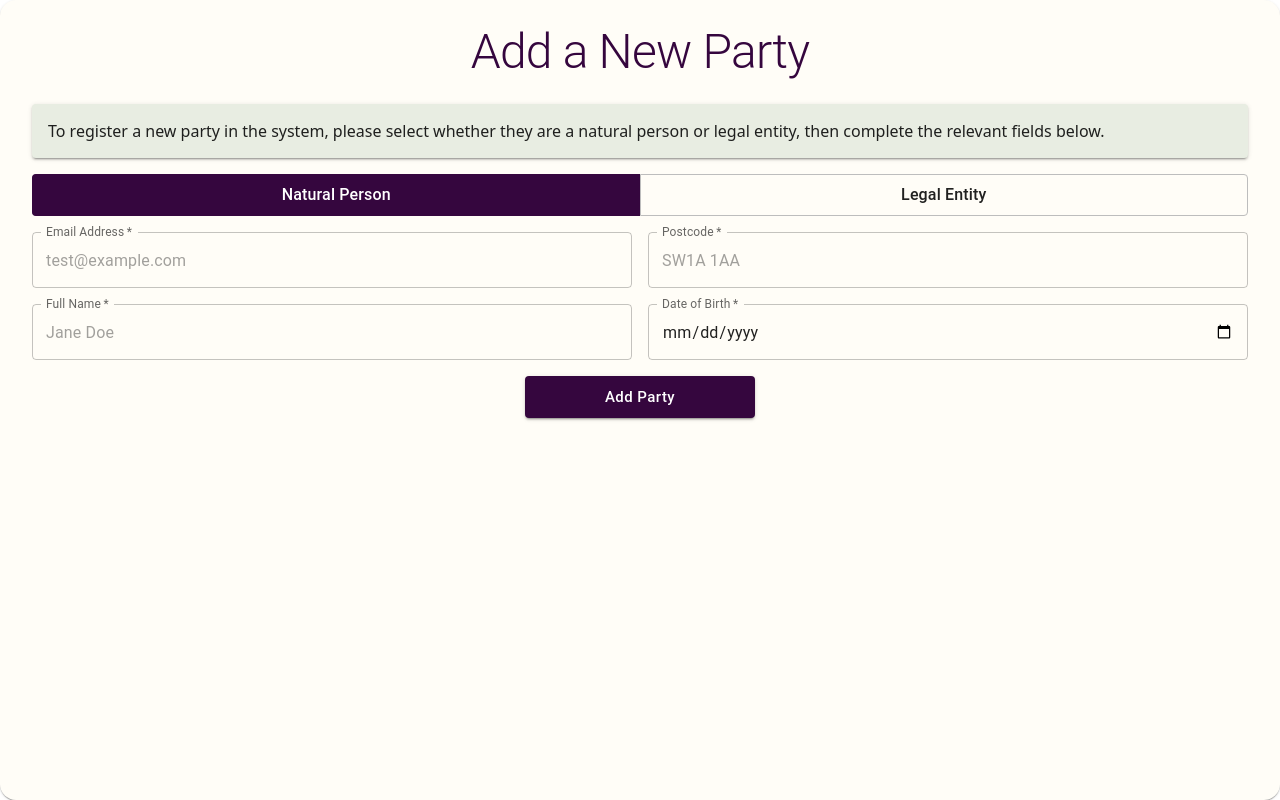
Test: CreatePartyForm › Displays Legal Entity fields when selected
Click the radio button labelled "Legal Entity": coordinates (944, 195) [640,174,1248,216]
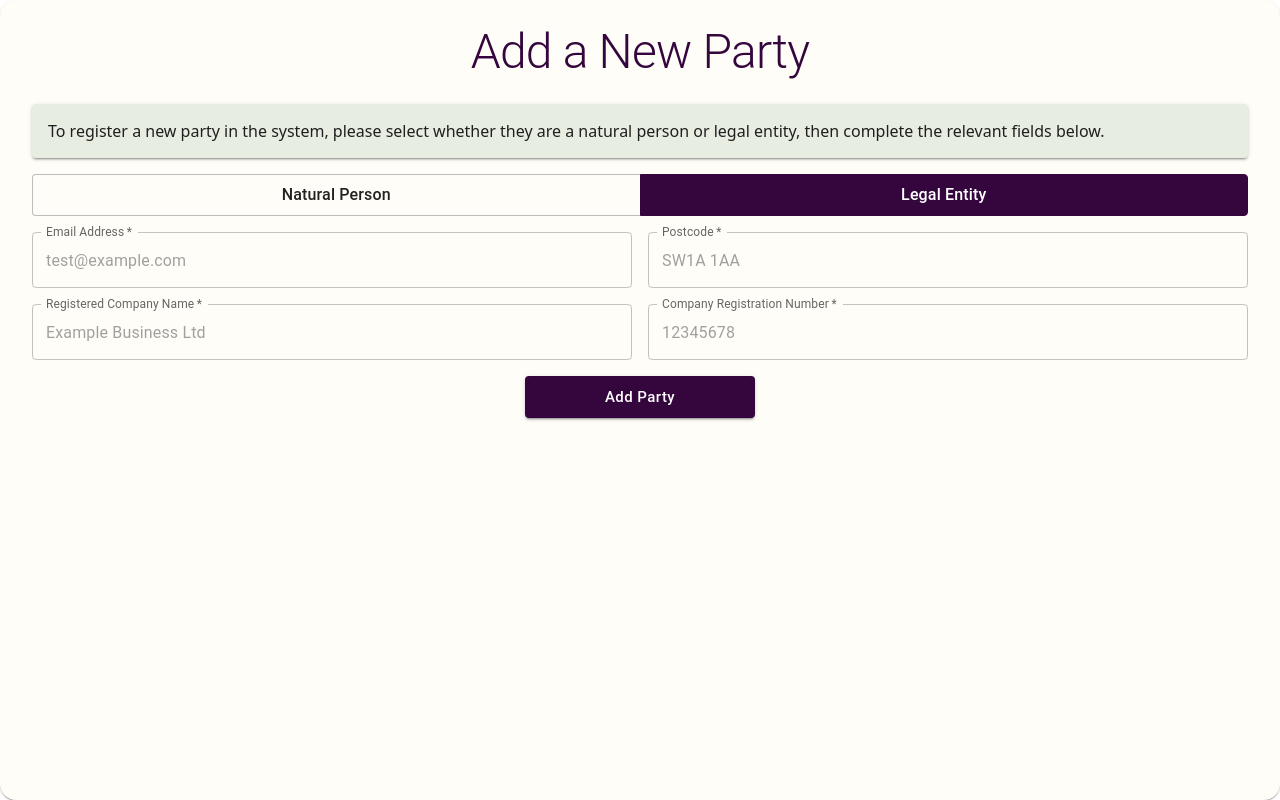
Expected: the field labelled "Postcode *" is shown, [648,232,1248,288]
Result: the field labelled "Registered Company Name *" is shown at [32,304,632,360]
Result: the field labelled "Company Registration Number *" is shown at [648,304,1248,360]
